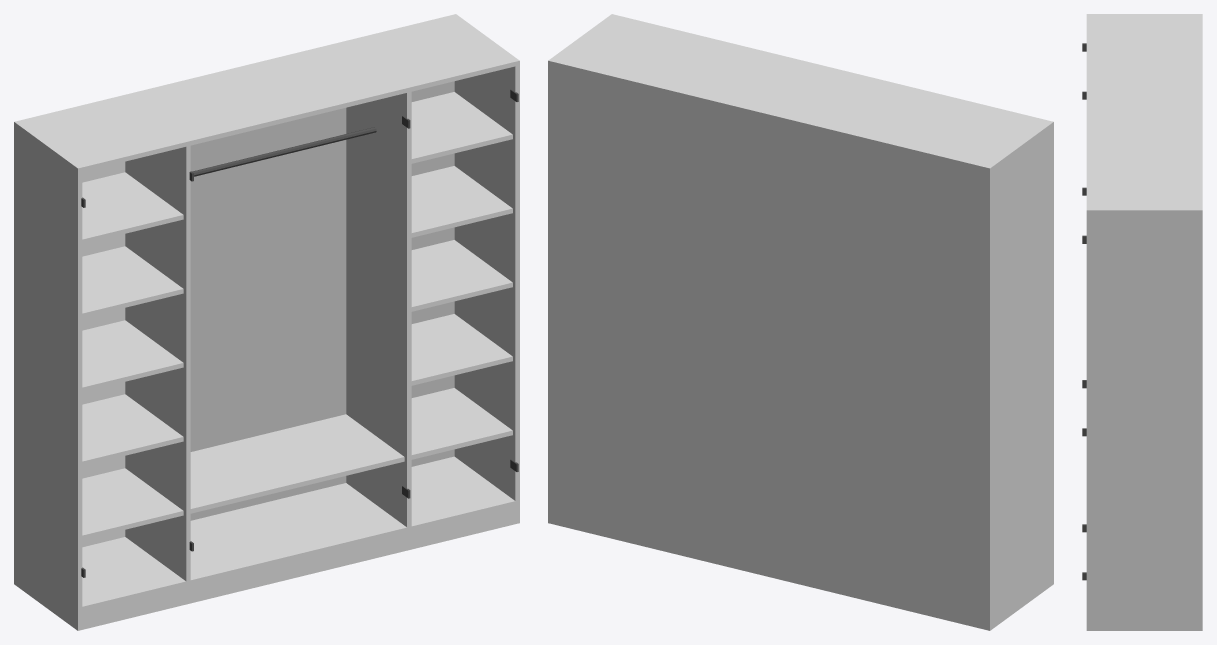
The model's file is Wardrobe3_C1.fbx.
3 views of the same model, side by side, from view 1: azimuth 30°, elevation 25°; view 2: azimuth 150°, elevation 25°; view 3: azimuth 270°, elevation 25° (orthographic). The views are drawn at different scales.
Parts seen in each view (by area): view 1: Wardrobe3_C1; view 2: Wardrobe3_C1; view 3: Wardrobe3_C1.
Part boxes in pixels (x1=…): Wardrobe3_C1: x1=14, y1=14, x2=519, y2=630; Wardrobe3_C1: x1=548, y1=14, x2=1053, y2=630; Wardrobe3_C1: x1=1082, y1=14, x2=1202, y2=630.
Size of the model in its own units: 200 by 200 by 51.79.
